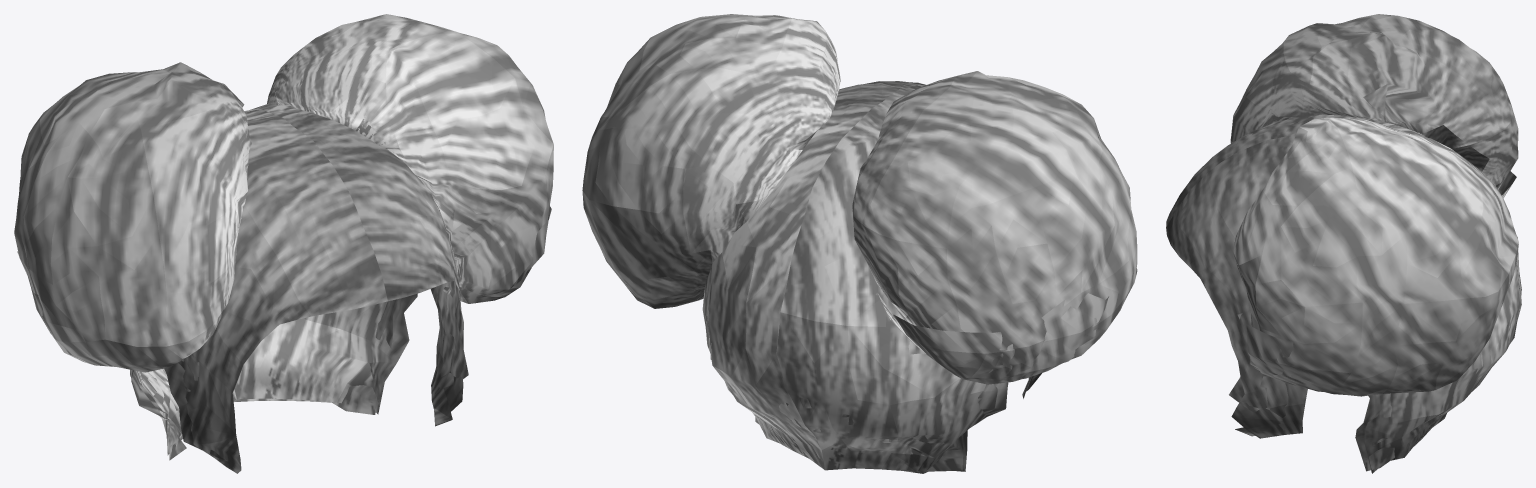
Rendered from daz_hair_twin_buns.glb.
The picture shows the model from 3 angles, left to right: view 1: azimuth 30°, elevation 25°; view 2: azimuth 150°, elevation 25°; view 3: azimuth 270°, elevation 25°; orthographic projection. The views are drawn at different scales.
Parts seen in each view (by area): view 1: daz_hair_twin_buns; view 2: daz_hair_twin_buns; view 3: daz_hair_twin_buns.
Part boxes in pixels (x1,y1,x2,y2): daz_hair_twin_buns: (14,14,553,473); daz_hair_twin_buns: (582,14,1137,473); daz_hair_twin_buns: (1166,14,1521,473).
Bounding box in the file's own units: 0.275 × 0.2052 × 0.1883.
1 material, 1 textured.
